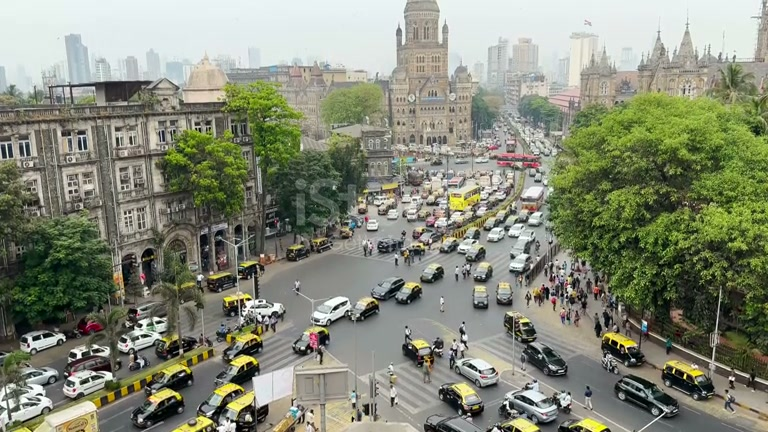bus: (448, 179, 482, 212)
car: (196, 382, 258, 432), (614, 374, 681, 418), (0, 384, 54, 427), (503, 385, 561, 424), (130, 388, 185, 429), (660, 359, 715, 400), (520, 342, 568, 378), (438, 381, 485, 417), (452, 356, 499, 388), (62, 371, 109, 399), (311, 295, 353, 326), (19, 329, 66, 355), (117, 331, 159, 354), (19, 366, 61, 387), (420, 262, 444, 283), (471, 283, 490, 309), (472, 261, 494, 282), (496, 281, 513, 305)
pedestrian: (583, 384, 593, 410)
truck: (0, 383, 54, 428), (661, 359, 715, 400), (601, 331, 645, 370)
